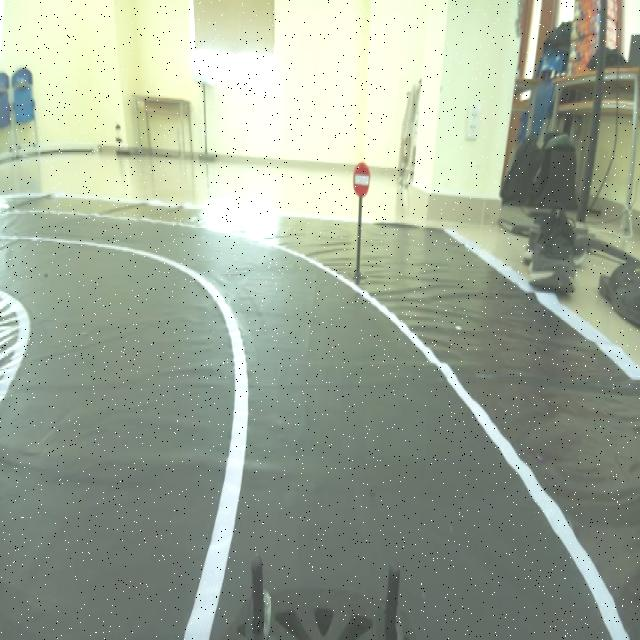no_entry: (347, 151, 369, 201)
